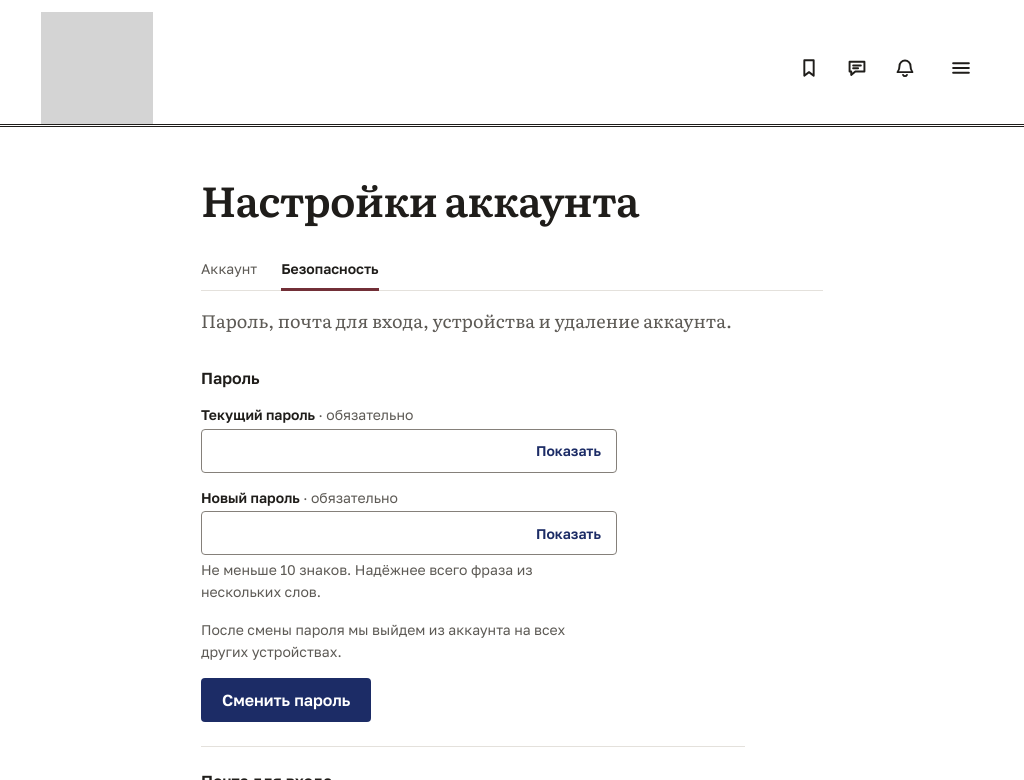
it: AccountPage › password › asks for both passwords and checks the new one
The image size is (1024, 780).
Expected: the heading "Пароль" is shown, [201,368,260,388]
Click the button "Сменить пароль". click: (286, 700)
box: [201,678,371,722]
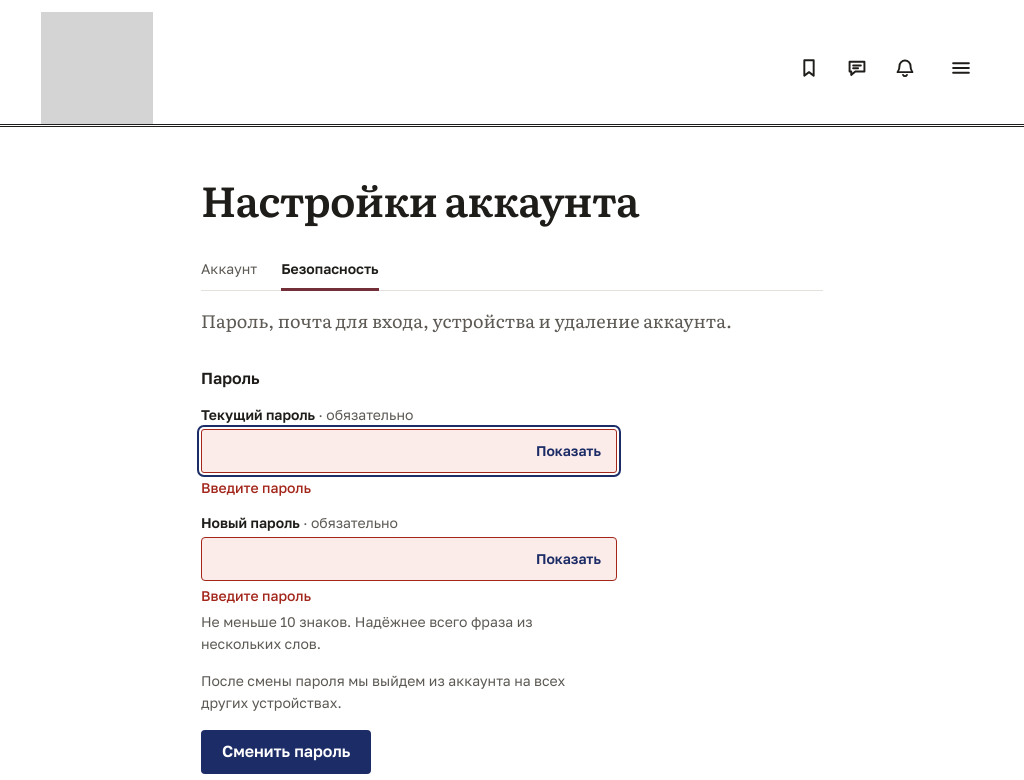
Now the text "Введите пароль" is shown 2 times, box [201,479,311,496]; [201,587,311,604]
Type "старый пароль" into the password field labelled "Текущий пароль · обязательно". click: (409, 451)
box: [201,429,617,473]
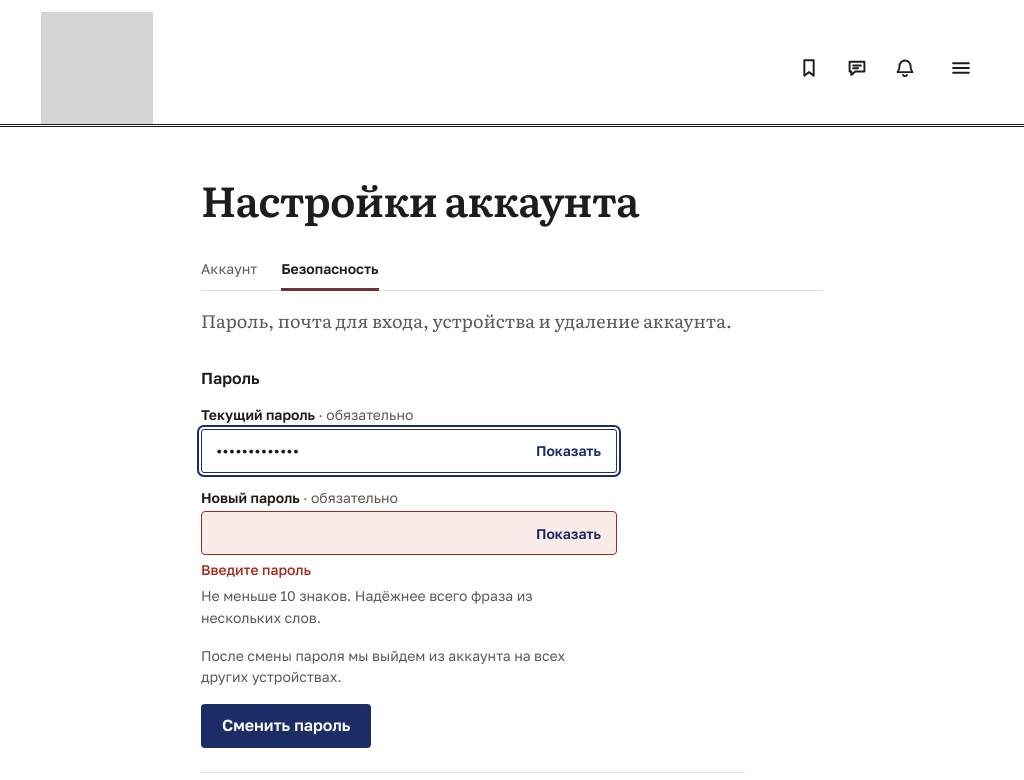
Type "коротко" into the password field labelled "Новый пароль · обязательно". click: (409, 534)
box: [201,512,617,556]
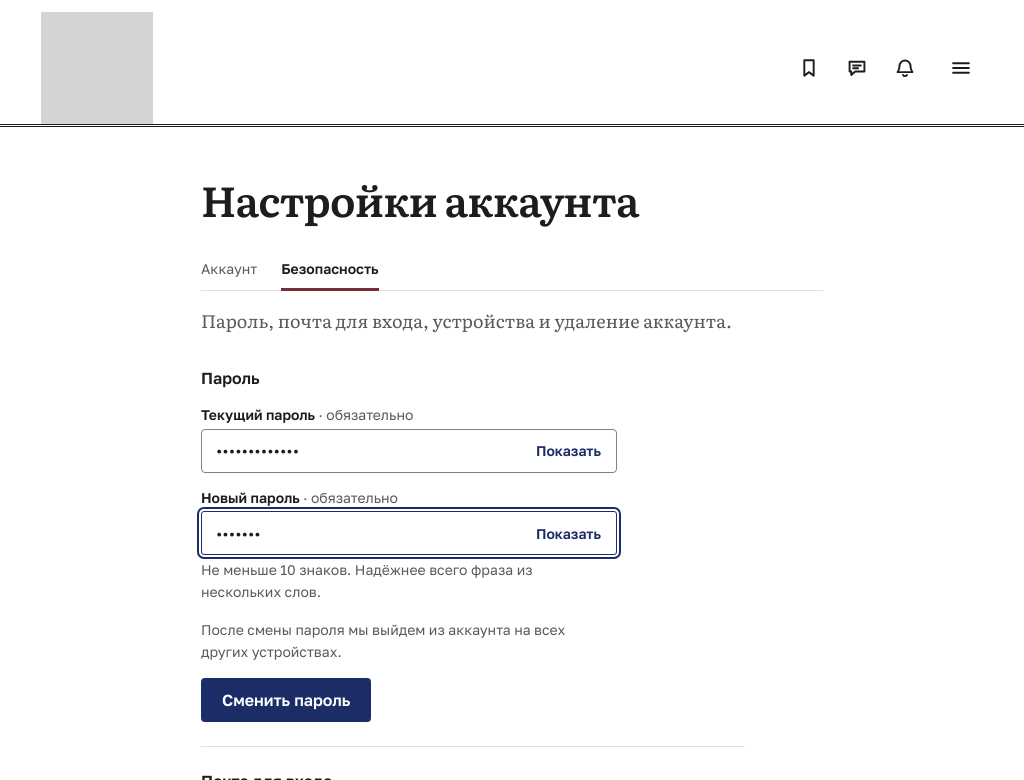
Click the button "Сменить пароль". click: (286, 700)
box: [201,678,371,722]
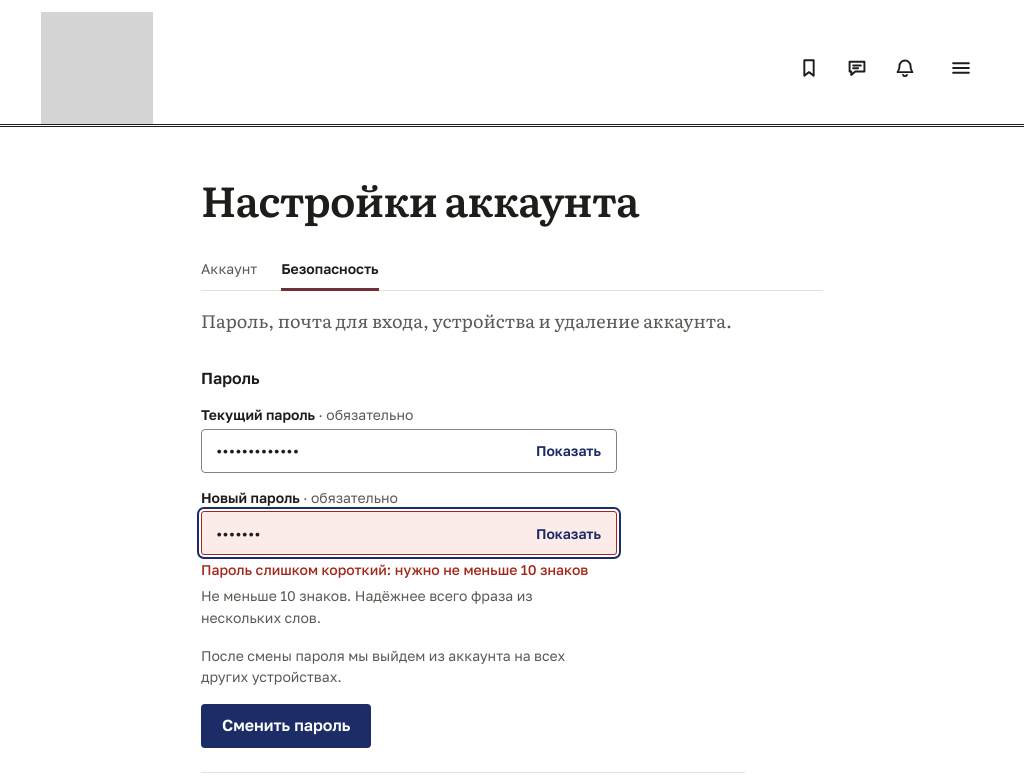
Now the text "Пароль слишком короткий: нужно не меньше 10 знаков" is shown, box [201,560,617,581]
